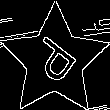P_SE: (25, 31, 84, 90)
